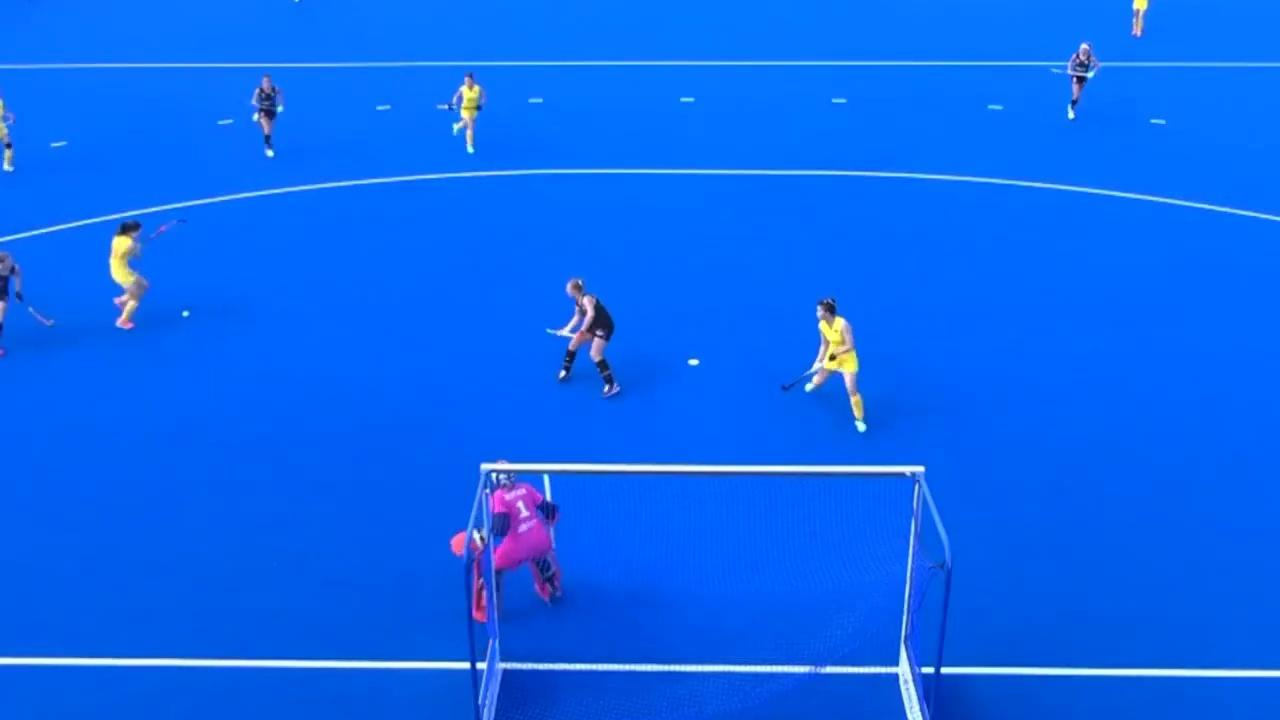ball: (179, 304, 192, 319)
